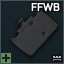Burris FastFire Weaver Base: (0, 0, 64, 64)
